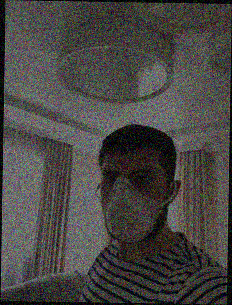with_mask: (100, 162, 161, 244)
